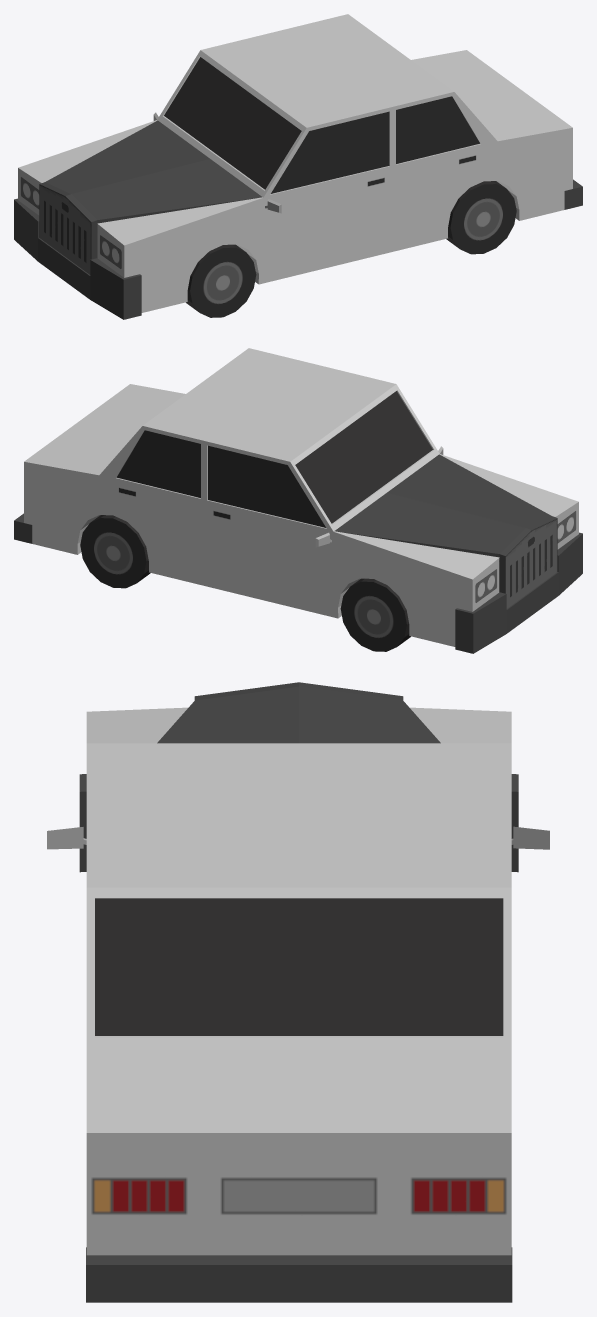
The model's file is car.glb.
3 views of the same model, one above another, from view 1: azimuth 30°, elevation 25°; view 2: azimuth 150°, elevation 25°; view 3: azimuth 270°, elevation 25° (orthographic). The views are drawn at different scales.
Parts seen in each view (by area): view 1: Body, Wheel_FL, Wheel_RL; view 2: Body, Wheel_FR, Wheel_RR; view 3: Body.
Boxes of the visible parts, x1,y1,x2,y2 form: Body: [14, 14, 582, 319]; Wheel_FL: [186, 244, 256, 317]; Wheel_RL: [446, 181, 516, 254]; Body: [14, 348, 582, 653]; Wheel_FR: [340, 578, 410, 651]; Wheel_RR: [80, 515, 150, 588]; Body: [47, 682, 549, 1302].
Bounding box in the file's own units: 6.32 × 2.2 × 2.96.
1 material, 1 textured.
